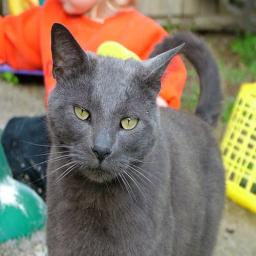catnose: (90, 144, 112, 164)
